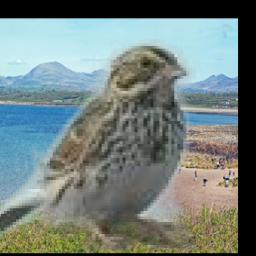Sparrow: (0, 40, 196, 250)
